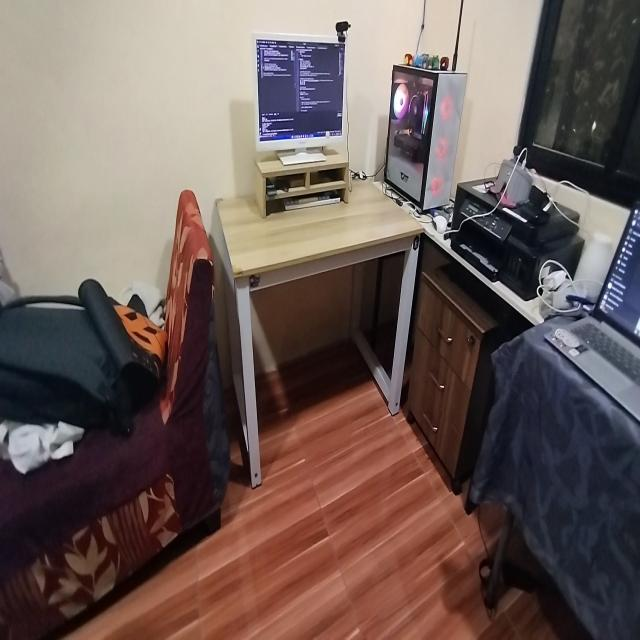table: (212, 165, 427, 477)
